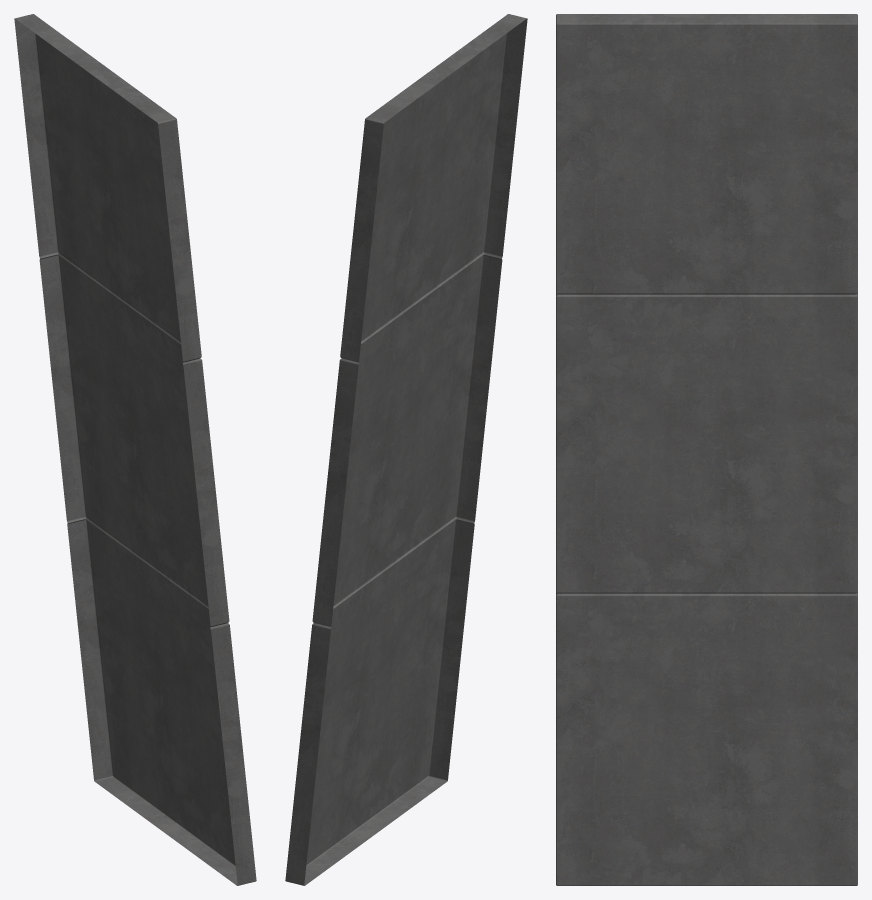
The model's file is cP_Pathway04_08.dae.
3 views of the same model, side by side, from view 1: azimuth 30°, elevation 25°; view 2: azimuth 150°, elevation 25°; view 3: azimuth 270°, elevation 25° (orthographic). The views are drawn at different scales.
Parts seen in each view (by area): view 1: cP_Pathway04_08.001; view 2: cP_Pathway04_08.001; view 3: cP_Pathway04_08.001.
Boxes of the visible parts, left/top/right/bottom form: cP_Pathway04_08.001: left=14, top=14, right=256, bottom=885; cP_Pathway04_08.001: left=285, top=14, right=527, bottom=885; cP_Pathway04_08.001: left=556, top=14, right=857, bottom=885.
Size of the model in its own units: 1.59 by 4 by 12.02.
